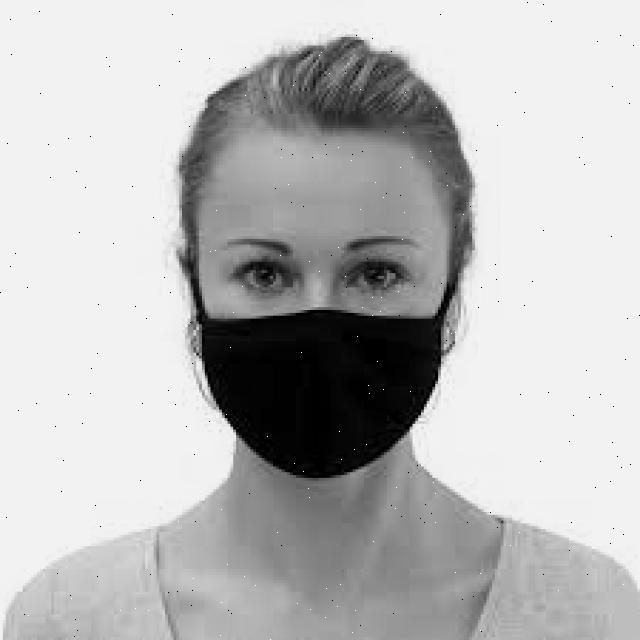fake: (154, 282, 452, 500)
real: (181, 130, 449, 497)
